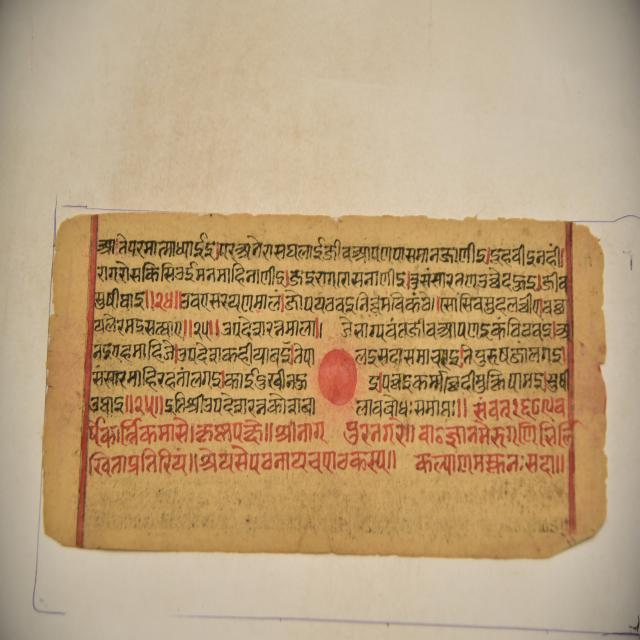text_paragraph: (34, 208, 605, 555)
